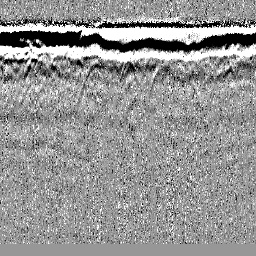cavity: (120, 55, 136, 84)
